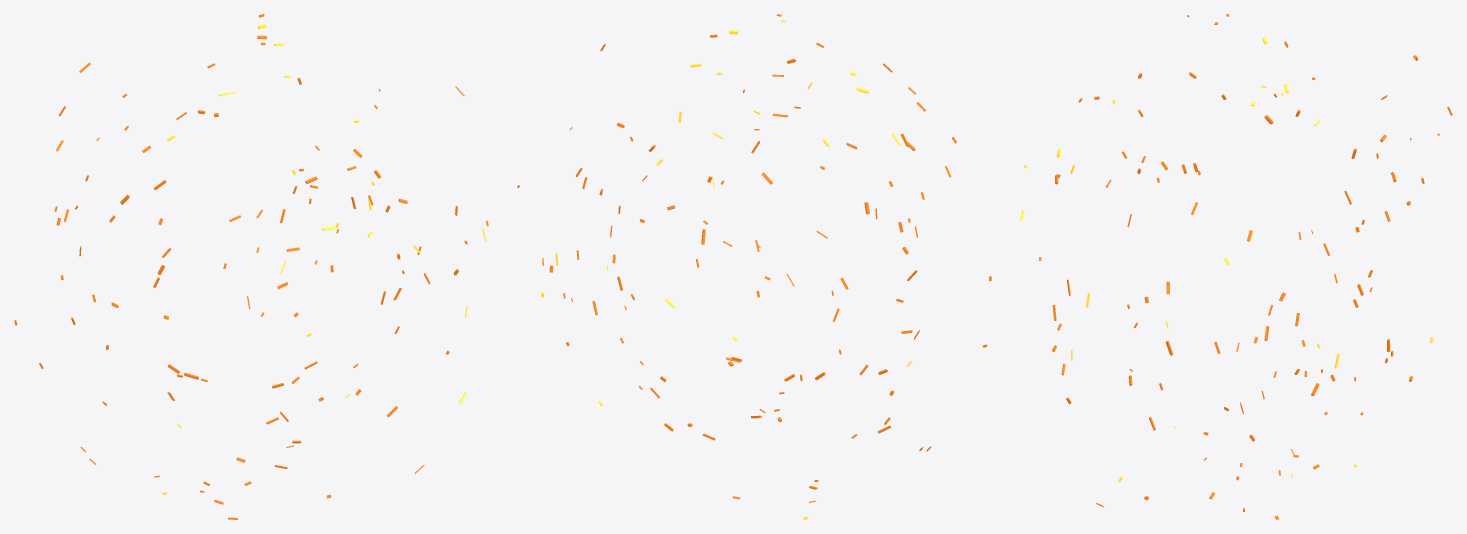
Rendered from ev_v3_fragments.glb.
3 views of the same model, side by side, from view 1: azimuth 30°, elevation 25°; view 2: azimuth 150°, elevation 25°; view 3: azimuth 270°, elevation 25° (orthographic). The views are drawn at different scales.
Visible parts, largest first — view 1: dim_data_fragments; view 2: dim_data_fragments, bright_data_fragments; view 3: dim_data_fragments, bright_data_fragments.
Part boxes in pixels (bbox=[...]): dim_data_fragments: bbox=[14, 14, 488, 519]; dim_data_fragments: bbox=[517, 14, 991, 502]; bright_data_fragments: bbox=[541, 20, 912, 519]; dim_data_fragments: bbox=[1039, 14, 1452, 519]; bright_data_fragments: bbox=[1020, 37, 1433, 481].
Size of the model in its own units: 444 by 500 by 399.
